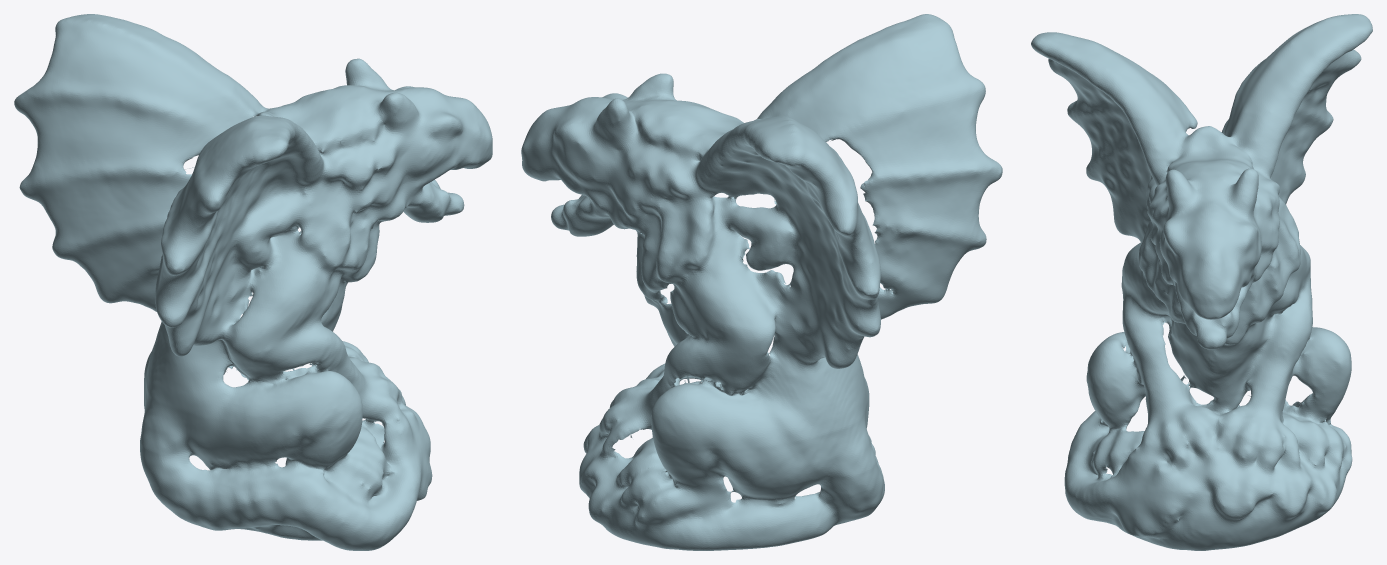
File: gargoyle.glb
3 renders of one model, left to right at view 1: azimuth 30°, elevation 25°; view 2: azimuth 150°, elevation 25°; view 3: azimuth 270°, elevation 25°, orthographic. The views are drawn at different scales.
Parts seen in each view (by area): view 1: gargoyle_ours.obj; view 2: gargoyle_ours.obj; view 3: gargoyle_ours.obj.
Boxes of the visible parts, x1=… form: gargoyle_ours.obj: x1=14, y1=14, x2=492, y2=550; gargoyle_ours.obj: x1=521, y1=14, x2=1002, y2=550; gargoyle_ours.obj: x1=1031, y1=14, x2=1372, y2=550.
Size of the model in its own units: 0.9153 by 1 by 0.7164.
